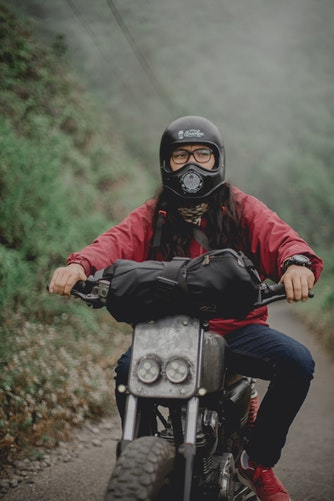helmet: (149, 124, 237, 191)
